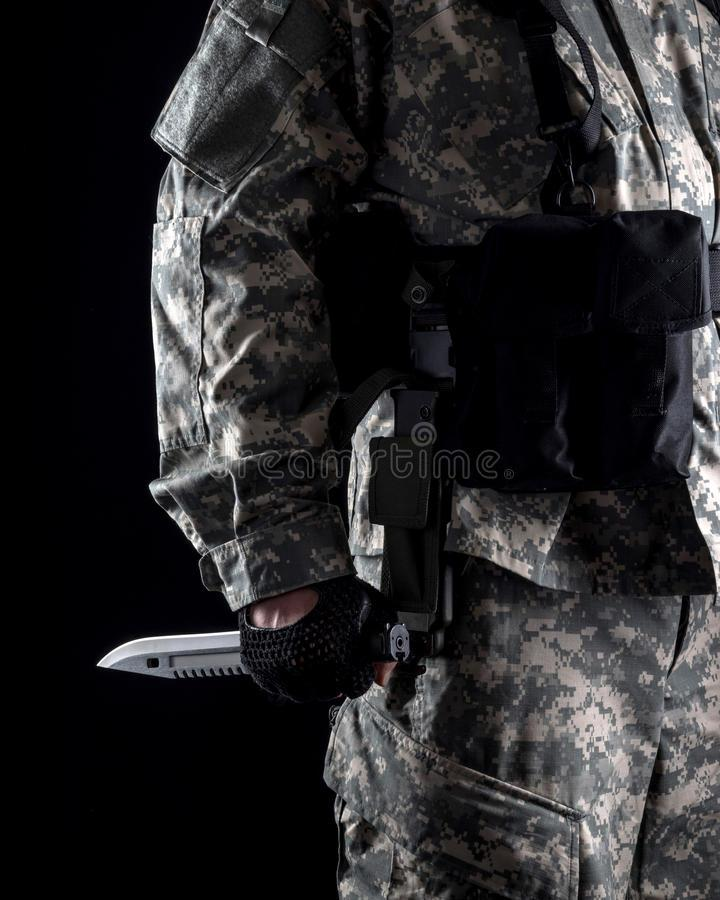weapon: (95, 608, 424, 690)
